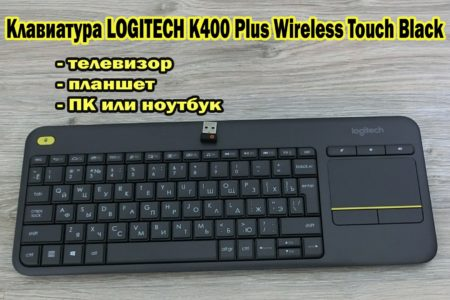logitech-keyboard-k400: (16, 117, 427, 278)
